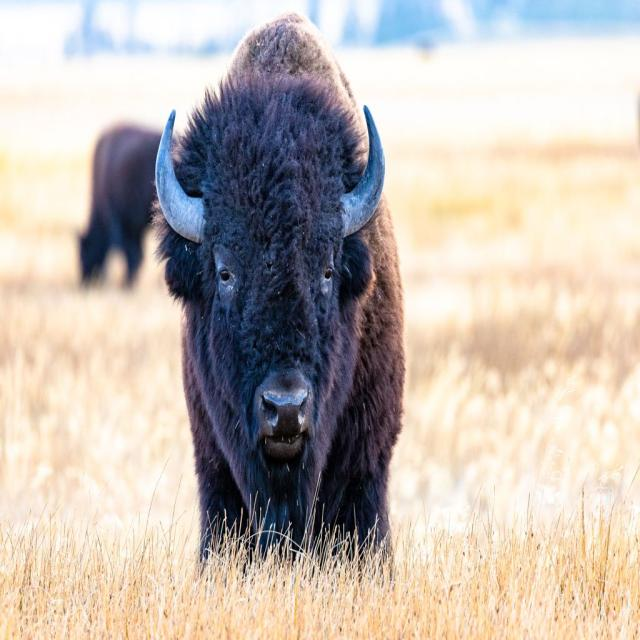Bison: (142, 5, 438, 592)
